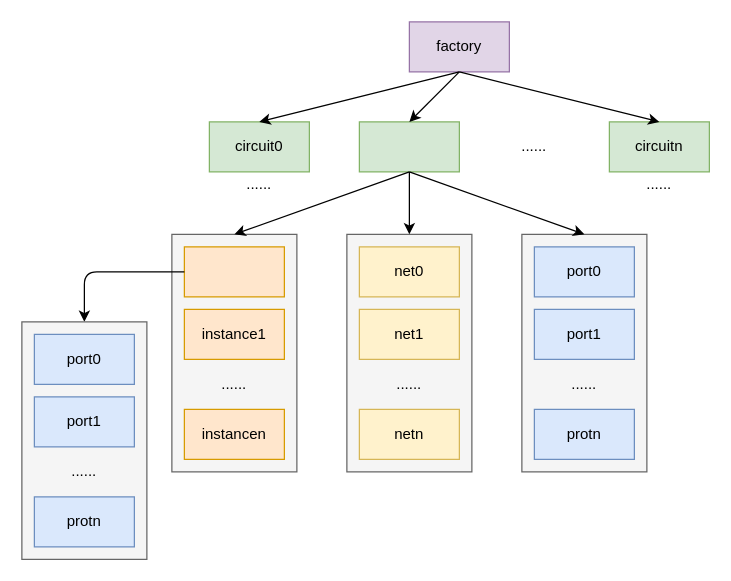
The diagram is 731 pixels wide and 581 high, and some of its shapes have lost their labels. Here are the shapes that lost their labels. From the top down, the box of each, then its label:
(358, 121, 459, 172): circuit1
(183, 246, 284, 297): instance0
